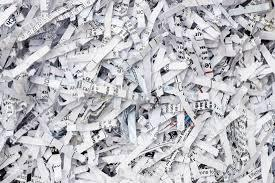Paper shavings: (2, 2, 275, 183)
